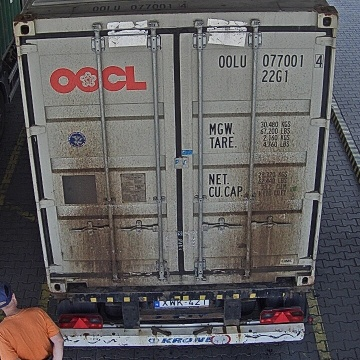serial_id: (218, 54, 324, 67)
